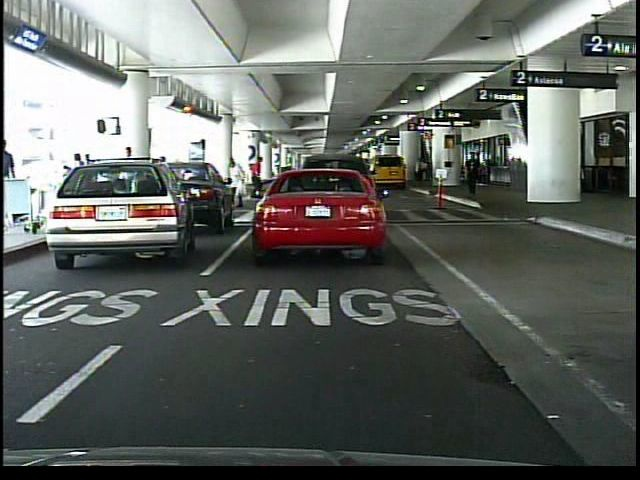person: (0, 139, 23, 226), (122, 145, 139, 219), (465, 152, 483, 196), (233, 158, 247, 211), (249, 153, 264, 195), (414, 155, 427, 190)
